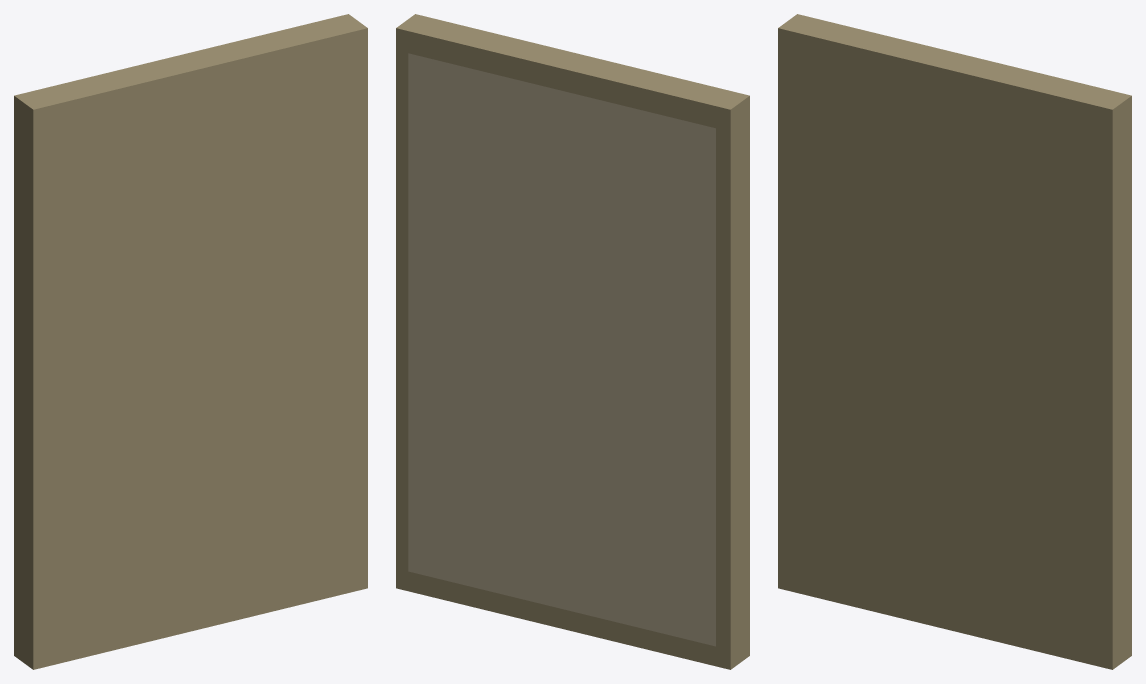
File: calendar.obj
3 views of the same model, side by side, from view 1: azimuth 30°, elevation 25°; view 2: azimuth 150°, elevation 25°; view 3: azimuth 330°, elevation 25° (orthographic).
Visible parts, largest first — view 1: calendar_backing; view 2: runtime_calendar, calendar_backing; view 3: calendar_backing.
Boxes of the visible parts, box(x1,y1,x2,y2) form: calendar_backing: box(14, 14, 367, 669); runtime_calendar: box(408, 53, 715, 646); calendar_backing: box(396, 14, 749, 669); calendar_backing: box(778, 14, 1131, 669).
Bounding box in the file's own units: 0.25 × 0.4 × 0.0265.
